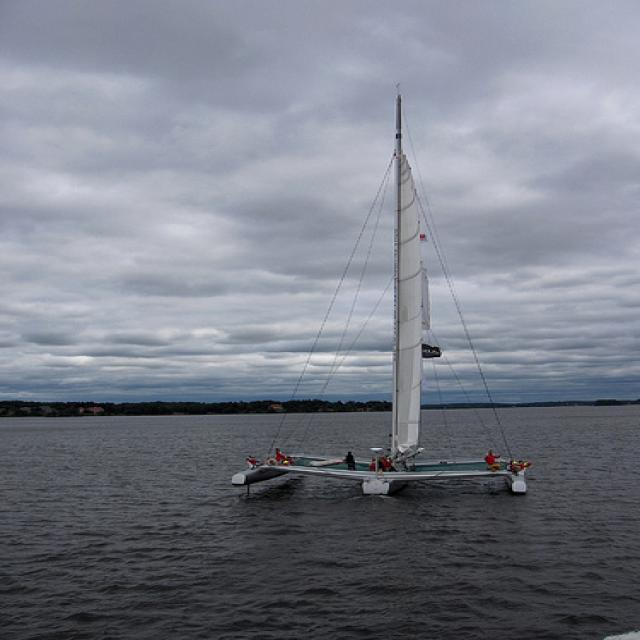Ship: (235, 89, 535, 509)
